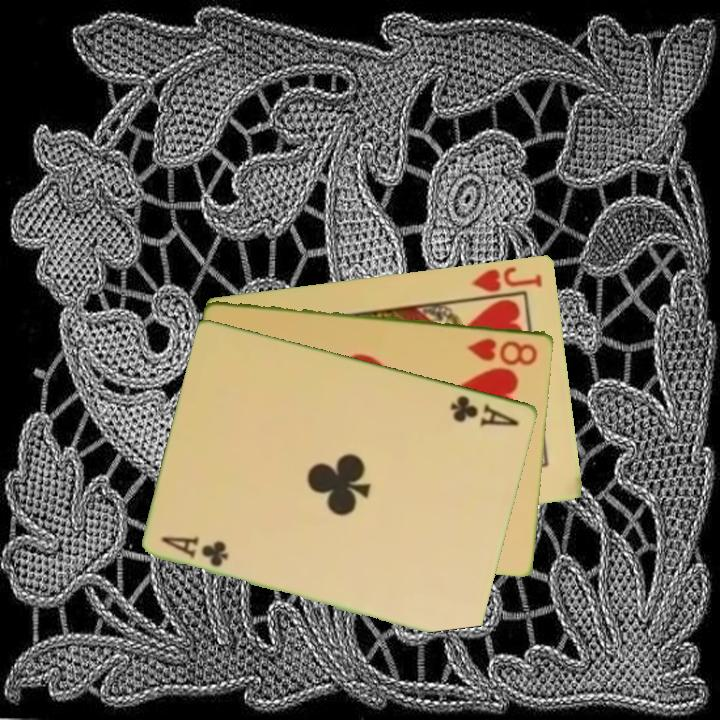8h: (464, 334, 541, 367)
Ac: (447, 391, 523, 429), (158, 532, 232, 570)
Jh: (468, 262, 546, 295)
